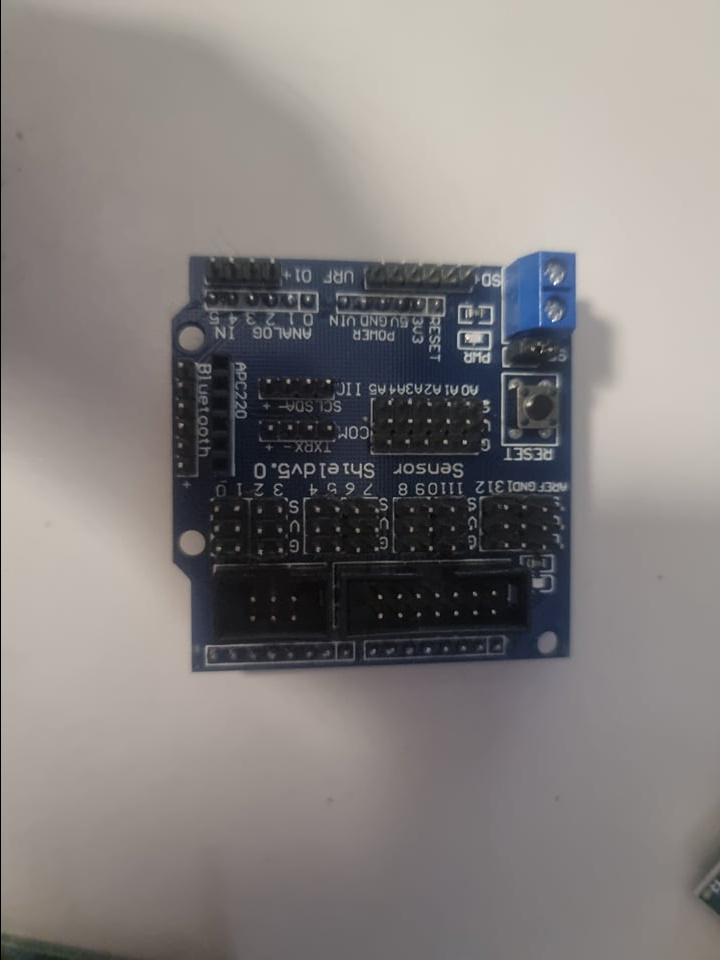5V EXPANSION: (169, 249, 575, 680)
